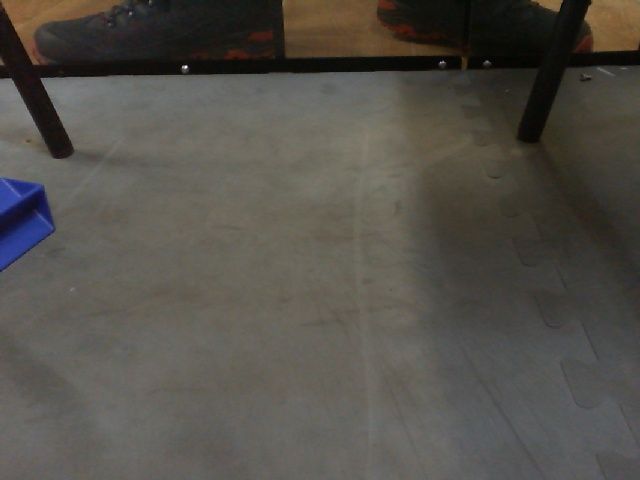BlueSample: (1, 173, 58, 276)
